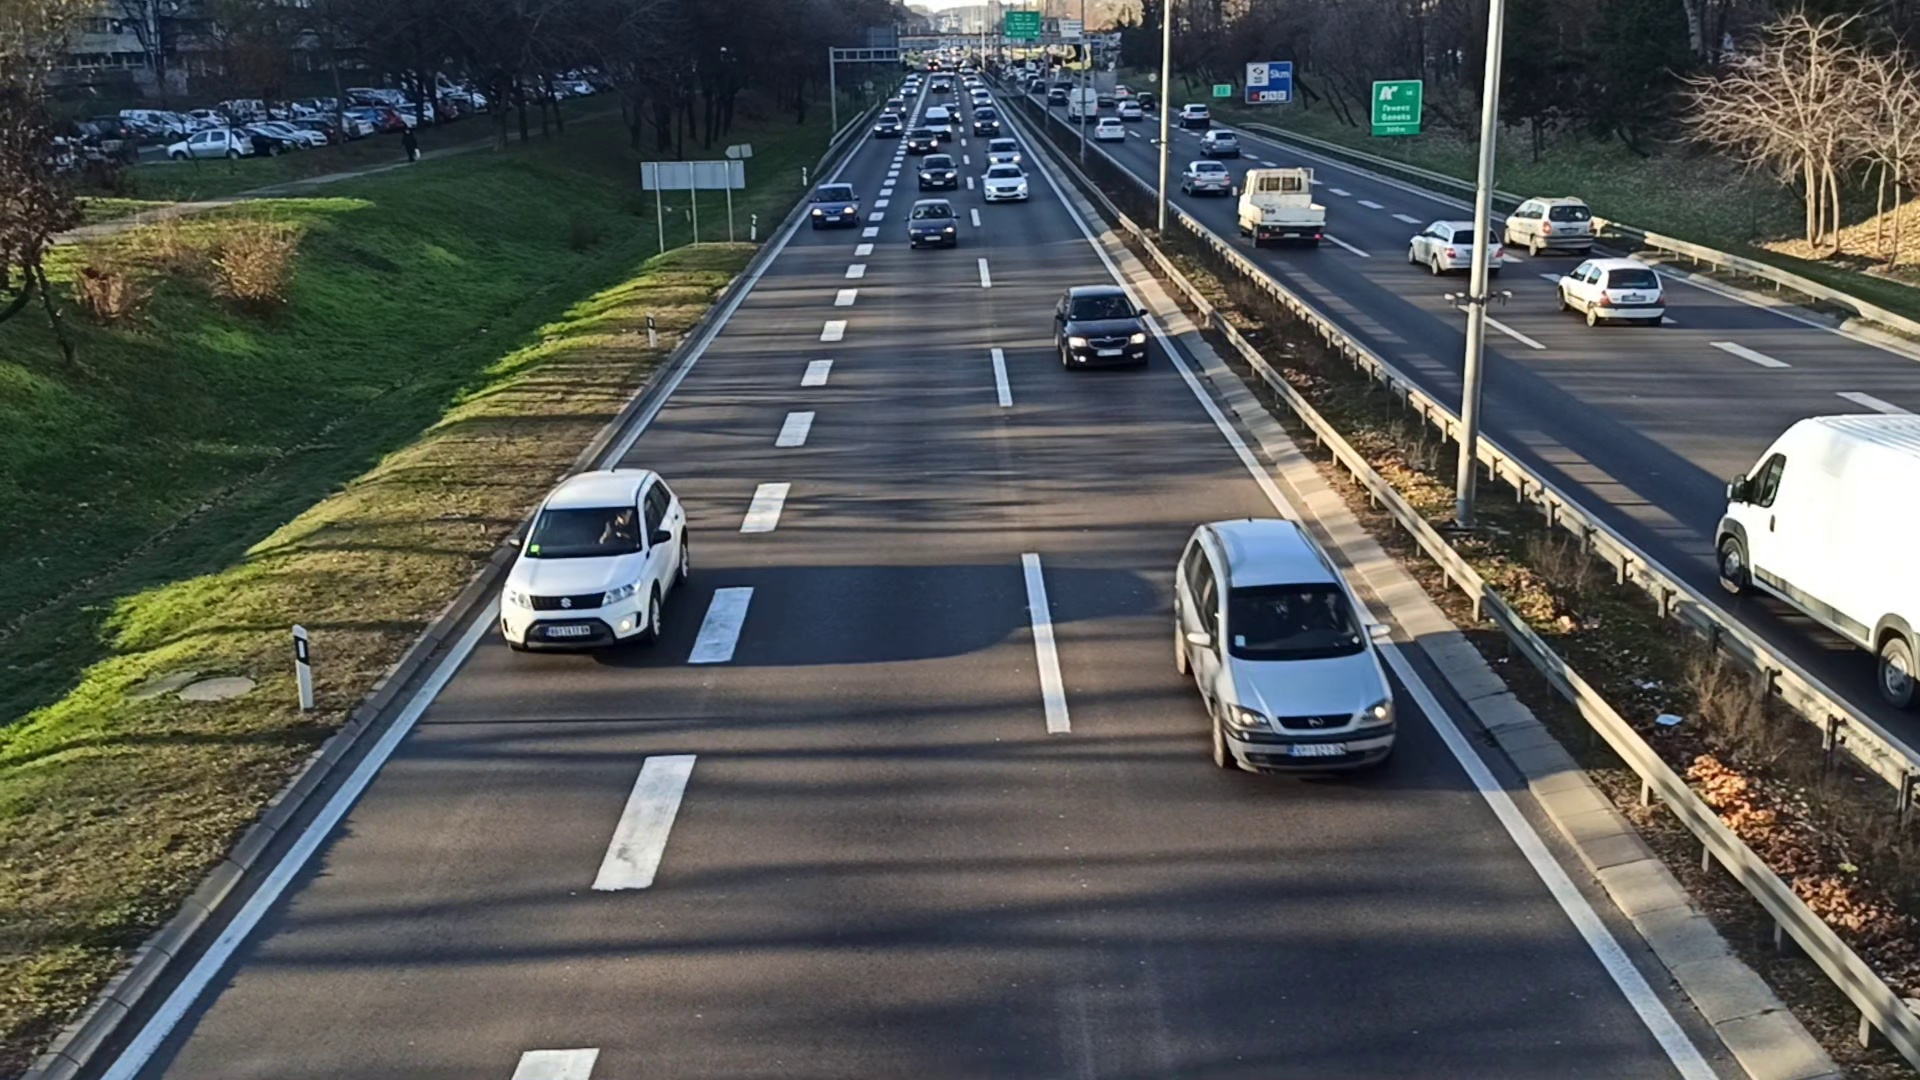car: (1171, 517, 1396, 778), (495, 467, 687, 658), (1052, 284, 1149, 369), (909, 199, 956, 247), (810, 179, 858, 225)
